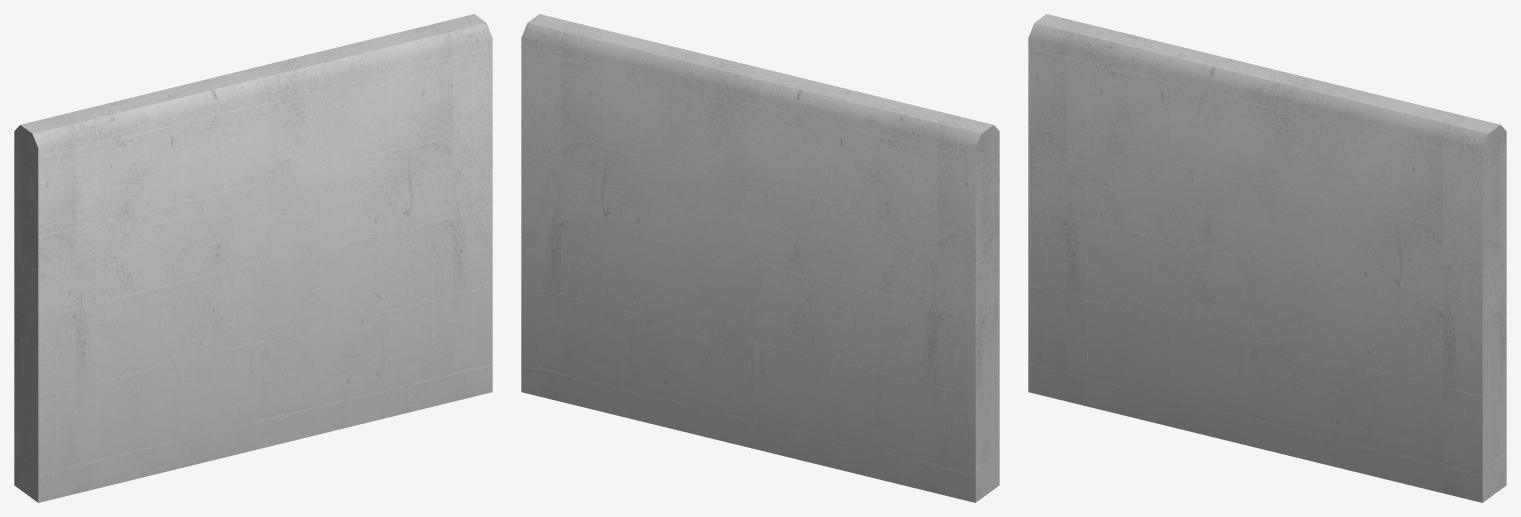
Rendered from aws_Wall_01_visual.DAE.
3 views of the same model, side by side, from view 1: azimuth 30°, elevation 25°; view 2: azimuth 150°, elevation 25°; view 3: azimuth 330°, elevation 25° (orthographic).
Parts seen in each view (by area): view 1: aws_Wall_01_visual; view 2: aws_Wall_01_visual; view 3: aws_Wall_01_visual.
Part boxes in pixels (<box>): aws_Wall_01_visual: <box>14,14,492,502</box>; aws_Wall_01_visual: <box>521,14,999,502</box>; aws_Wall_01_visual: <box>1028,14,1506,502</box>.
Bounding box in the file's own units: 225 × 20.53 × 172.
1 material, 1 textured.
